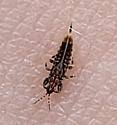Phlaeothripidae: (32, 20, 77, 111)
